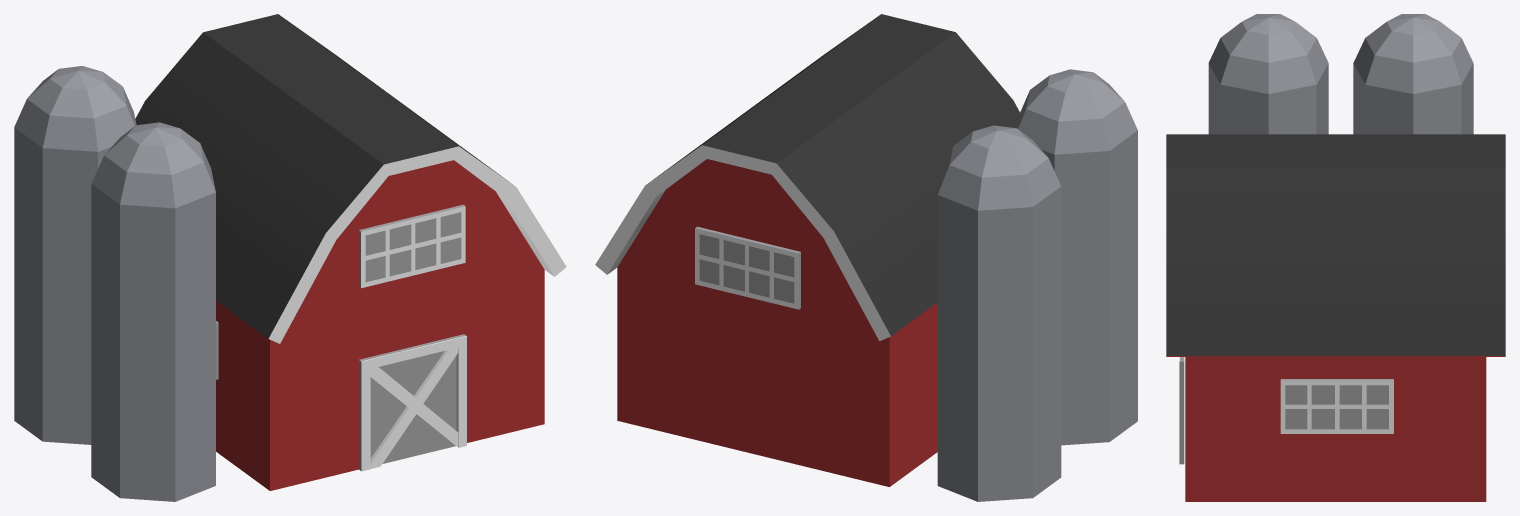
Rendered from barn.fbx.
3 views of the same model, side by side, from view 1: azimuth 30°, elevation 25°; view 2: azimuth 150°, elevation 25°; view 3: azimuth 270°, elevation 25° (orthographic). The views are drawn at different scales.
Parts seen in each view (by area): view 1: pCube1, pSphere9, pSphere10, pCube3, windows, x, x1; view 2: pCube1, pSphere10, pSphere9, windows3; view 3: pCube1, pSphere9, pSphere10, windows2, pCube3.
Boxes of the visible parts, x1,y1,x2,y2 form: pCube1: (135,14,566,490); pSphere9: (91,122,215,501); pSphere10: (14,66,136,444); pCube3: (359,334,466,471); windows: (359,204,465,288); x: (370,347,458,468); x1: (370,367,458,447); pCube1: (595,14,1019,486); pSphere10: (937,125,1061,501); pSphere9: (1016,69,1137,445); windows3: (695,226,800,309); pCube1: (1166,134,1505,501); pSphere9: (1208,14,1328,134); pSphere10: (1353,14,1473,134); windows2: (1280,379,1393,433); pCube3: (1179,357,1184,464).
Size of the model in its own units: 50.97 by 41.7 by 39.24.
